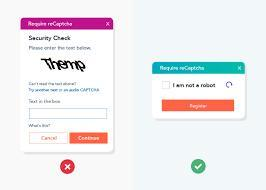button: (162, 100, 236, 113), (70, 133, 109, 145), (31, 133, 69, 144)
checkbox: (162, 82, 172, 91)
input: (31, 109, 108, 120)
label: (30, 46, 92, 52), (173, 83, 217, 89), (29, 36, 72, 42), (29, 82, 77, 87), (29, 99, 63, 105), (30, 124, 52, 129)
